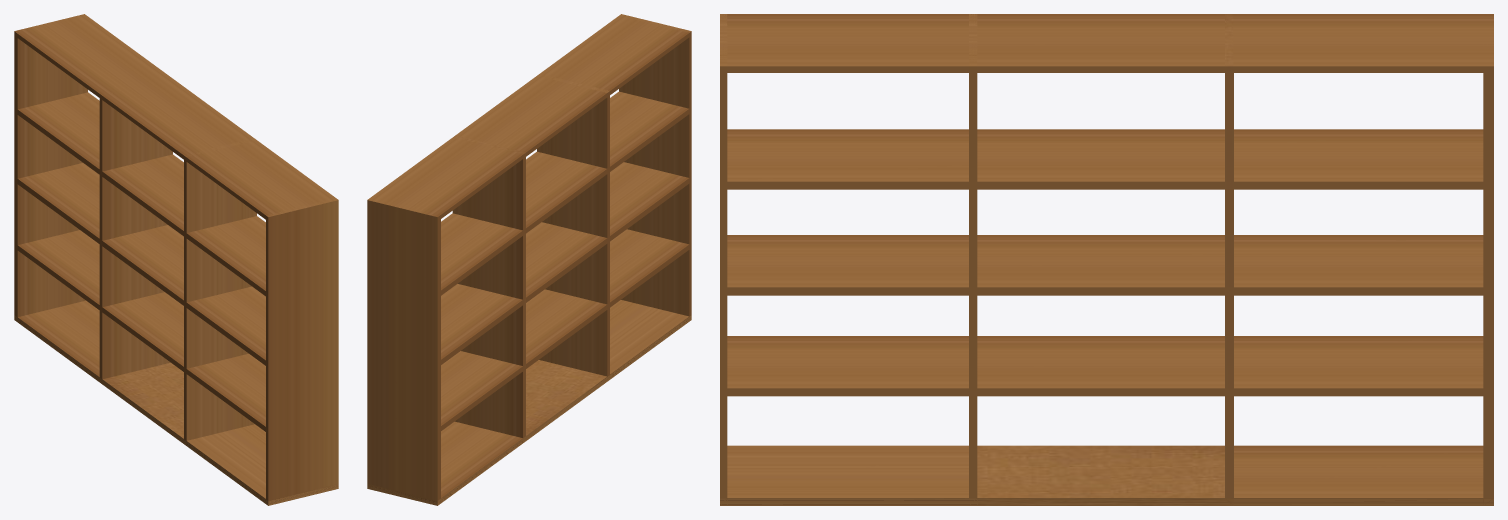
File: bookshelf.obj
3 views of the same model, side by side, from view 1: azimuth 30°, elevation 25°; view 2: azimuth 150°, elevation 25°; view 3: azimuth 270°, elevation 25° (orthographic). The views are drawn at different scales.
Visible parts, largest first — view 1: Cube_Cube.001; view 2: Cube_Cube.001; view 3: Cube_Cube.001.
Boxes of the visible parts, box(x1,y1,x2,y2) form: Cube_Cube.001: box(14, 14, 338, 505); Cube_Cube.001: box(367, 14, 691, 505); Cube_Cube.001: box(720, 14, 1493, 505).
Bounding box in the file's own units: 0.9656 × 3.78 × 6.03.
